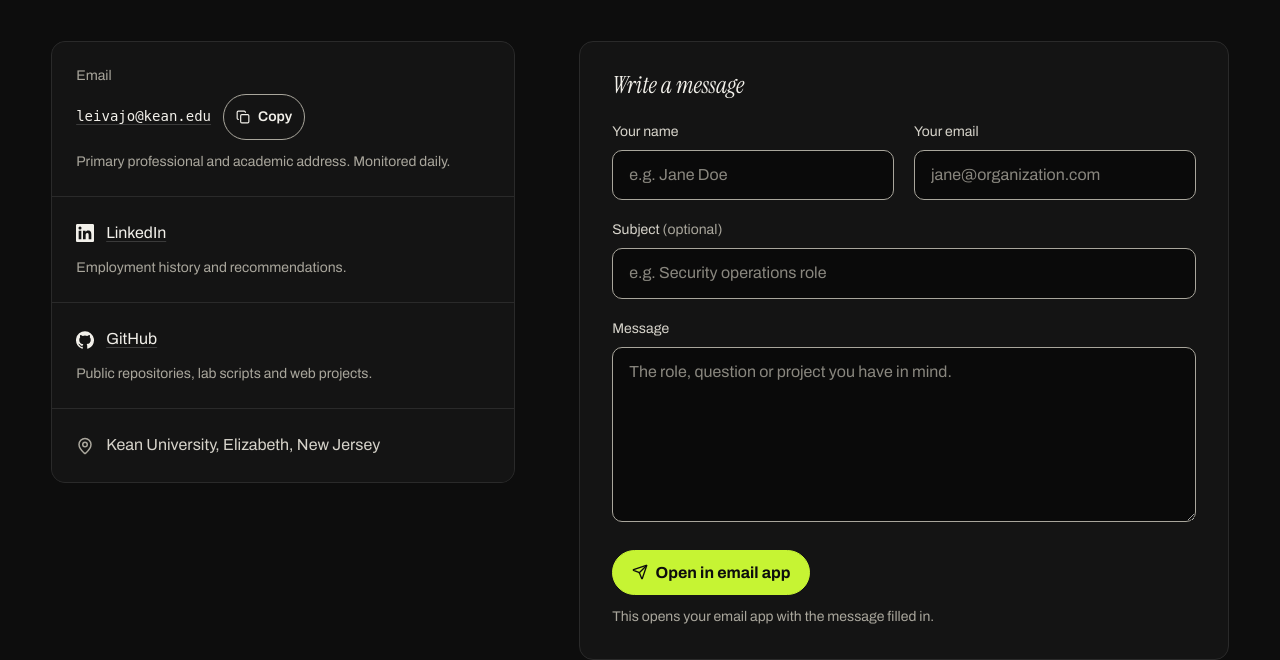
Test: Contact › shows an alert and marks empty required fields invalid
This screenshot has width=1280, height=660.
(page scrolled)
What coordinates should you click on to do the following:
click the button "Open in email app"
I would click on:
 (711, 572)
Its box is [612,550,810,595].
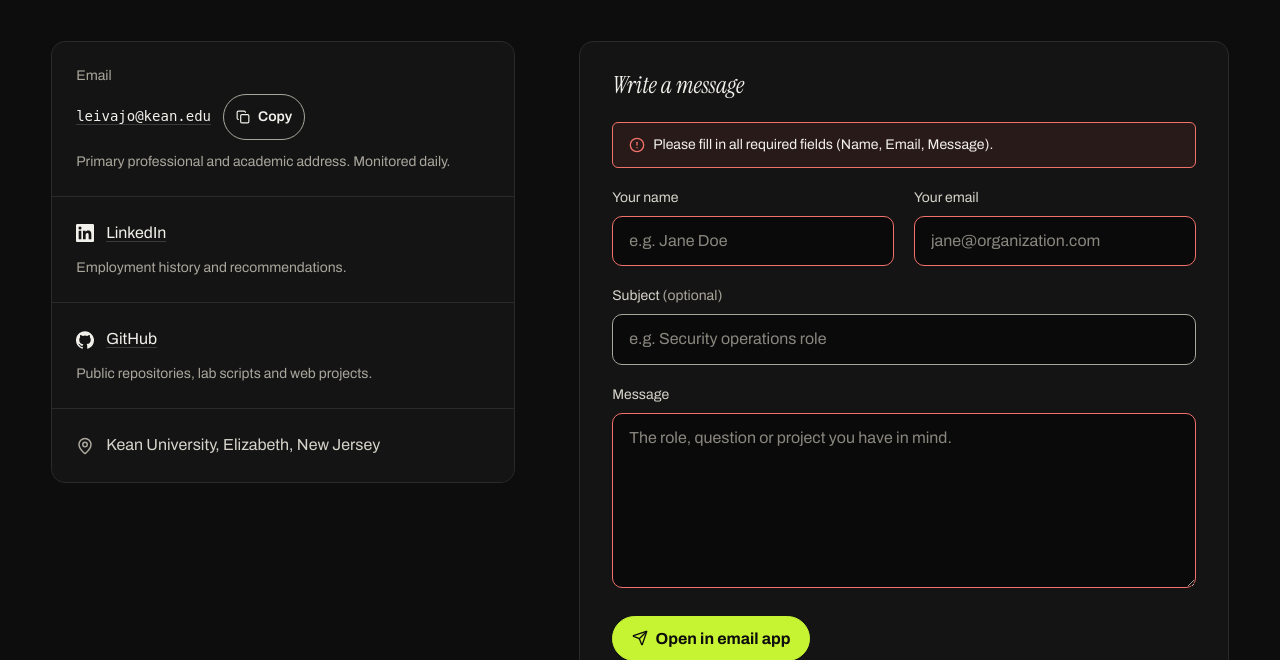
Now the message reads "Please fill in all required fields (Name, Email, Message).", box [653,137,993,152]
